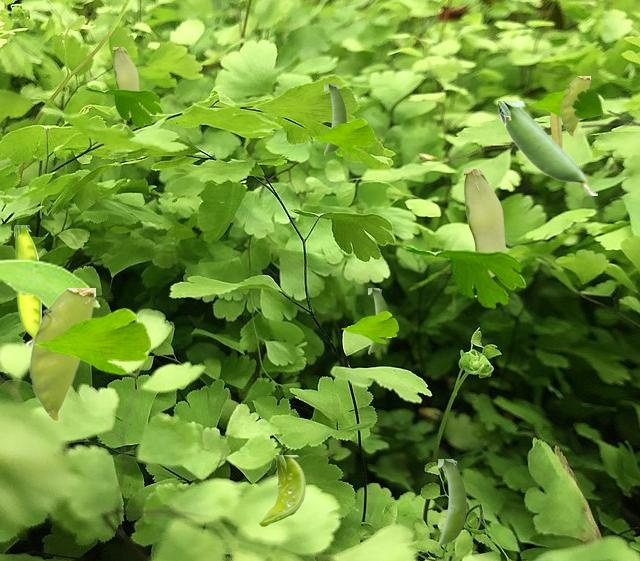pea: (498, 101, 596, 194), (29, 288, 94, 420), (464, 169, 505, 296), (258, 455, 304, 525), (14, 225, 40, 346), (438, 459, 465, 546), (113, 47, 139, 129), (560, 76, 589, 135), (324, 84, 345, 154), (368, 288, 387, 353), (550, 113, 561, 146)
